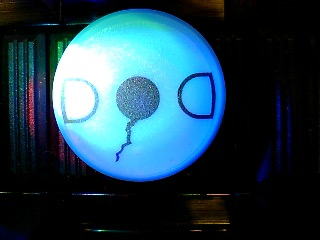CRACK: (51, 8, 227, 182)
